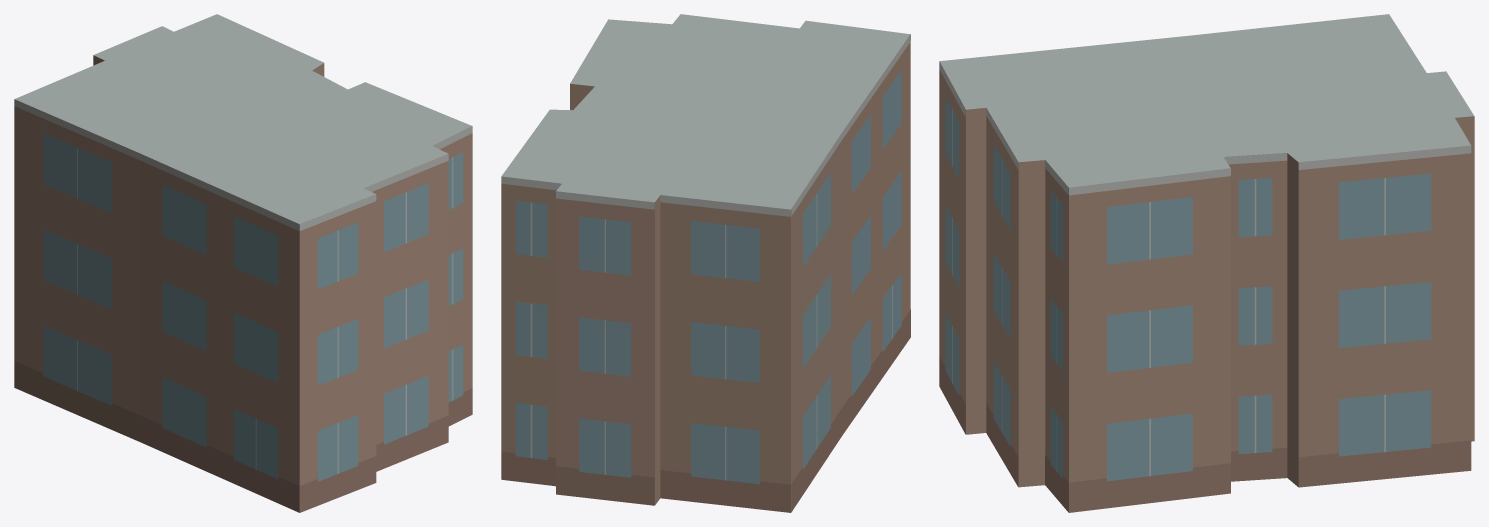
Rendered from survey-upis-32984660.glb.
3 views of the same model, side by side, from view 1: azimuth 30°, elevation 25°; view 2: azimuth 150°, elevation 25°; view 3: azimuth 270°, elevation 25° (orthographic). The views are drawn at different scales.
Parts seen in each view (by area): view 1: survey-upis-32984660.tmp; view 2: survey-upis-32984660.tmp; view 3: survey-upis-32984660.tmp.
Part boxes in pixels (x1,y1,x2,y2): survey-upis-32984660.tmp: (14,14,472,512); survey-upis-32984660.tmp: (501,14,910,512); survey-upis-32984660.tmp: (939,14,1474,512).
Size of the model in its own units: 11.7 by 10.2 by 15.23.
